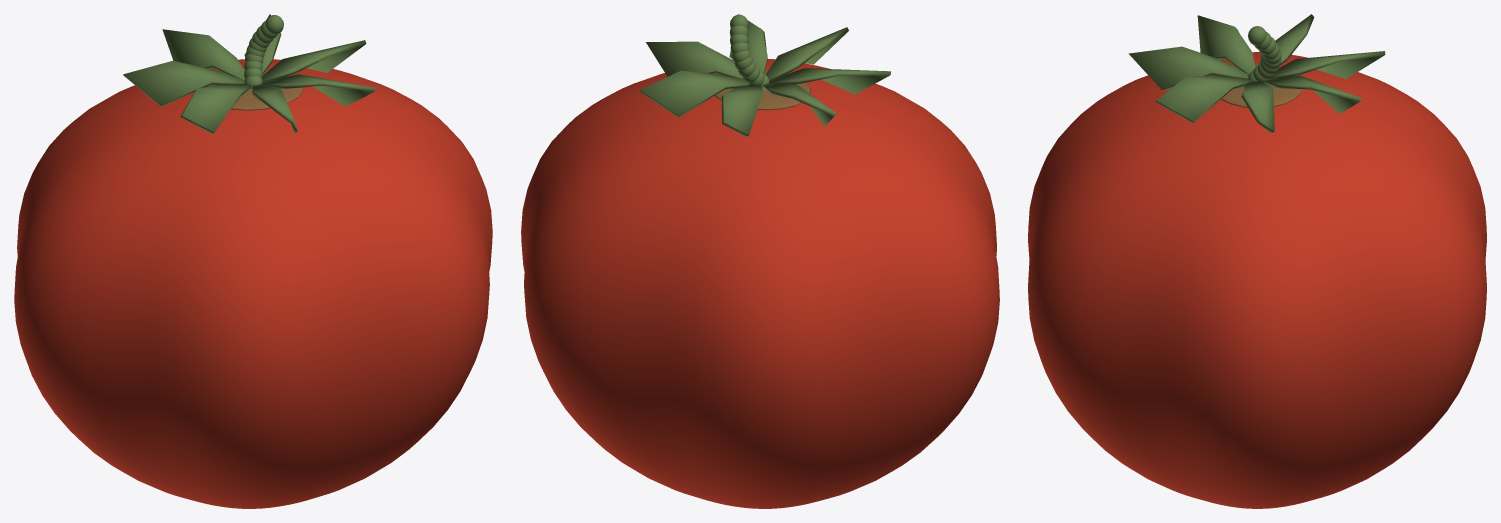
Rendered from better_boy.glb.
3 views of the same model, side by side, from view 1: azimuth 30°, elevation 25°; view 2: azimuth 150°, elevation 25°; view 3: azimuth 270°, elevation 25° (orthographic).
Parts seen in each view (by area): view 1: Broad six-shouldered Better Boy, Seven curled Better Boy calyx blades, Depressed Better Boy stem scar; view 2: Broad six-shouldered Better Boy, Seven curled Better Boy calyx blades, Depressed Better Boy stem scar; view 3: Broad six-shouldered Better Boy, Seven curled Better Boy calyx blades, Depressed Better Boy stem scar.
Part boxes in pixels (x1,y1,x2,y2): Broad six-shouldered Better Boy: (14,59,492,508); Seven curled Better Boy calyx blades: (123,14,375,133); Depressed Better Boy stem scar: (207,70,303,110); Broad six-shouldered Better Boy: (521,59,999,508); Seven curled Better Boy calyx blades: (639,14,890,136); Depressed Better Boy stem scar: (715,69,810,110); Broad six-shouldered Better Boy: (1028,52,1486,508); Seven curled Better Boy calyx blades: (1129,14,1385,133); Depressed Better Boy stem scar: (1221,63,1302,107).
Bounding box in the file's own units: 1.6 × 1.59 × 1.4.
